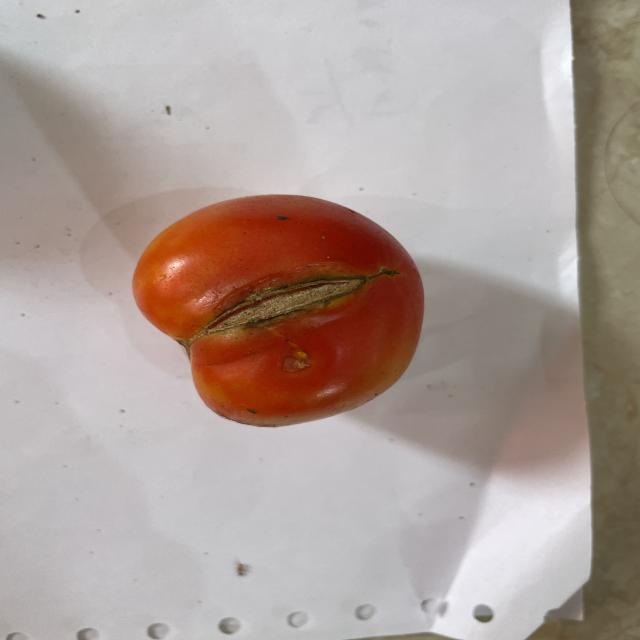tomato_cracking: (190, 264, 410, 335)
